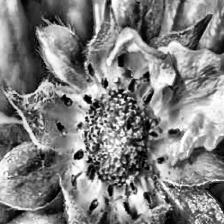Blossom Blight: (50, 53, 184, 219)
